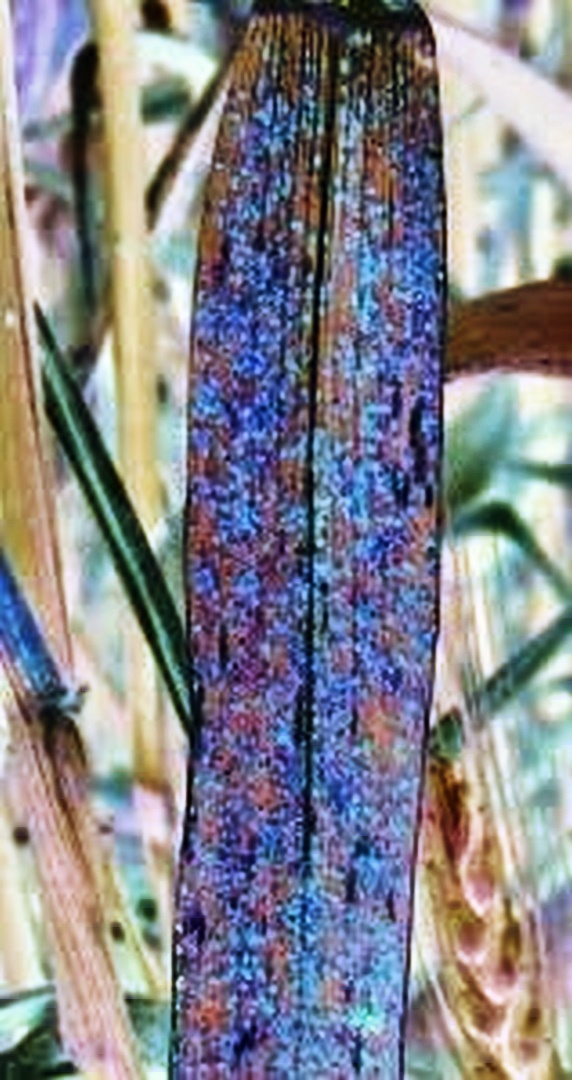Leaf Rust: (141, 83, 473, 1069)
